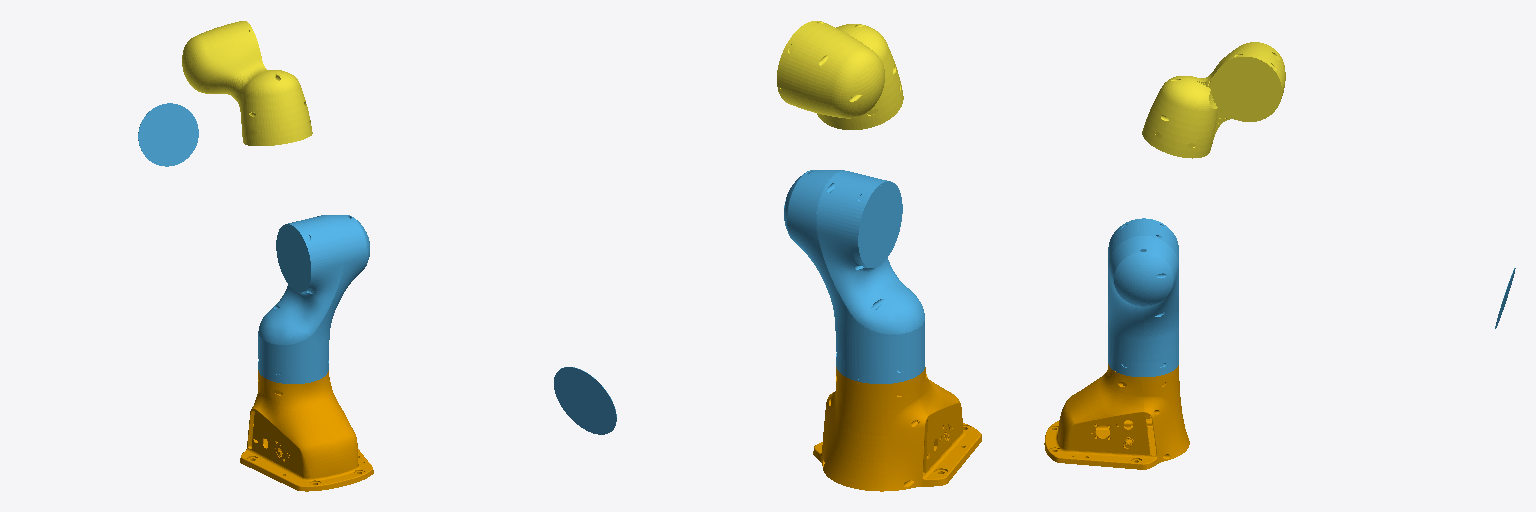
robot.urdf — panda_with_bat:
<?xml version="1.0" ?>
<robot name="panda_with_bat">

<material name="silver">
  <color rgba="0.700 0.700 0.700 1.000"/>
</material>

<link name="base_link">
  <inertial>
    <origin xyz="0.0 0.0 0.0" rpy="0 0 0"/>
    <mass value="0.0"/>
    <inertia ixx="0.0" iyy="0.0" izz="0.0" ixy="0.0" iyz="0.0" ixz="0.0"/>
  </inertial>
  <visual>
    <origin xyz="0 0 0" rpy="0 0 0"/>
    <geometry>
      <mesh filename="meshes/base_link.stl" scale="0.001 0.001 0.001"/>
    </geometry>
    <material name="silver"/>
    <material/>
  </visual>
  <collision>
    <origin xyz="0 0 0" rpy="0 0 0"/>
    <geometry>
      <mesh filename="meshes/base_link.stl" scale="0.001 0.001 0.001"/>
    </geometry>
  </collision>
</link>

<link name="franka_link11">
  <inertial>
    <origin xyz="0.015919970943145345 1.6891914177460943e-05 0.09629414483425225" rpy="0 0 0"/>
    <mass value="6.3428439995297925"/>
    <inertia ixx="0.049100885935681404" iyy="0.0523856265058229" izz="0.014510081328525493" ixy="-1.8118905784902939e-06" iyz="-1.2245628480900272e-05" ixz="-0.008761304137697046"/>
  </inertial>
  <visual>
    <origin xyz="0.205858 -0.115737 -0.489015" rpy="0 0 0"/>
    <geometry>
      <mesh filename="meshes/franka_link11.stl" scale="0.001 0.001 0.001"/>
    </geometry>
    <material name="silver"/>
    <material/>
  </visual>
  <collision>
    <origin xyz="0.205858 -0.115737 -0.489015" rpy="0 0 0"/>
    <geometry>
      <mesh filename="meshes/franka_link11.stl" scale="0.001 0.001 0.001"/>
    </geometry>
  </collision>
</link>

<link name="franka_link21">
  <inertial>
    <origin xyz="-0.03170674092862322 0.017918814413682704 0.06631353310618704" rpy="0 0 0"/>
    <mass value="18.093105171101435"/>
    <inertia ixx="0.1067043390002862" iyy="0.11527332715699679" izz="0.046421214515349085" ixy="-0.008156187945142945" iyz="-0.02011518479972141" ixz="-0.03011566655974729"/>
  </inertial>
  <visual>
    <origin xyz="0.205358 -0.115737 -0.681015" rpy="0 0 0"/>
    <geometry>
      <mesh filename="meshes/franka_link21.stl" scale="0.001 0.001 0.001"/>
    </geometry>
    <material name="silver"/>
    <material/>
  </visual>
  <collision>
    <origin xyz="0.205358 -0.115737 -0.681015" rpy="0 0 0"/>
    <geometry>
      <mesh filename="meshes/franka_link21.stl" scale="0.001 0.001 0.001"/>
    </geometry>
  </collision>
</link>

<link name="franka_link31">
  <inertial>
    <origin xyz="-0.006251688472462685 0.05415434031893715 0.055962521756316996" rpy="0 0 0"/>
    <mass value="5.091749656018345"/>
    <inertia ixx="0.027931566301489852" iyy="0.014324972489096588" izz="0.022896724524414103" ixy="0.0018985248869833327" iyz="-0.008999136283237785" ixz="0.0011251465327162258"/>
  </inertial>
  <visual>
    <origin xyz="0.204858 -0.166419 -0.868277" rpy="0 0 0"/>
    <geometry>
      <mesh filename="meshes/franka_link31.stl" scale="0.001 0.001 0.001"/>
    </geometry>
    <material name="silver"/>
    <material/>
  </visual>
  <collision>
    <origin xyz="0.204858 -0.166419 -0.868277" rpy="0 0 0"/>
    <geometry>
      <mesh filename="meshes/franka_link31.stl" scale="0.001 0.001 0.001"/>
    </geometry>
  </collision>
</link>

<link name="franka_link41">
  <inertial>
    <origin xyz="0.022416295539124442 0.053828750026371774 0.02831937415265595" rpy="0 0 0"/>
    <mass value="5.826518118660749"/>
    <inertia ixx="0.03293216879178651" iyy="0.013303916725328158" izz="0.029144926010459815" ixy="0.0018531124960448064" iyz="-0.008925637551683518" ixz="0.0008266307965244524"/>
  </inertial>
  <visual>
    <origin xyz="0.190744 -0.276493 -0.963839" rpy="0 0 0"/>
    <geometry>
      <mesh filename="meshes/franka_link41.stl" scale="0.001 0.001 0.001"/>
    </geometry>
    <material name="silver"/>
    <material/>
  </visual>
  <collision>
    <origin xyz="0.190744 -0.276493 -0.963839" rpy="0 0 0"/>
    <geometry>
      <mesh filename="meshes/franka_link41.stl" scale="0.001 0.001 0.001"/>
    </geometry>
  </collision>
</link>

<link name="franka_link51">
  <inertial>
    <origin xyz="-0.034290569507804514 0.16391278139547755 -0.04460213669811597" rpy="0 0 0"/>
    <mass value="2.33892655137443"/>
    <inertia ixx="0.02364118982761232" iyy="0.006151004442137342" izz="0.023577444571088457" ixy="0.002687874149010061" iyz="0.005125296561300452" ixz="-0.0007201380608680696"/>
  </inertial>
  <visual>
    <origin xyz="0.169284 -0.415935 -1.011568" rpy="0 0 0"/>
    <geometry>
      <mesh filename="meshes/franka_link51.stl" scale="0.001 0.001 0.001"/>
    </geometry>
    <material name="silver"/>
    <material/>
  </visual>
  <collision>
    <origin xyz="0.169284 -0.415935 -1.011568" rpy="0 0 0"/>
    <geometry>
      <mesh filename="meshes/franka_link51.stl" scale="0.001 0.001 0.001"/>
    </geometry>
  </collision>
</link>

<link name="franka_link61">
  <inertial>
    <origin xyz="0.03418688988700623 0.05926864819781541 -0.006268383799952537" rpy="0 0 0"/>
    <mass value="1.8155432010748516"/>
    <inertia ixx="0.007118089011445949" iyy="0.004265977942787158" izz="0.0051537386428838206" ixy="0.0004301101645506622" iyz="-0.00011646942799026228" ixz="-2.364473017452129e-05"/>
  </inertial>
  <visual>
    <origin xyz="0.138983 -0.664691 -0.944242" rpy="0 0 0"/>
    <geometry>
      <mesh filename="meshes/franka_link61.stl" scale="0.001 0.001 0.001"/>
    </geometry>
    <material name="silver"/>
    <material/>
  </visual>
  <collision>
    <origin xyz="0.138983 -0.664691 -0.944242" rpy="0 0 0"/>
    <geometry>
      <mesh filename="meshes/franka_link61.stl" scale="0.001 0.001 0.001"/>
    </geometry>
  </collision>
</link>

<link name="franka_link71">
  <inertial>
    <origin xyz="0.108837 -0.732388 -0.872878" rpy="0 0 0"/>
    <mass value="0.0"/>
    <inertia ixx="0.0" iyy="0.0" izz="0.0" ixy="0.0" iyz="0.0" ixz="0.0"/>
  </inertial>
  <visual>
    <origin xyz="0.108837 -0.732388 -0.872878" rpy="0 0 0"/>
    <geometry>
      <mesh filename="meshes/franka_link71.stl" scale="0.001 0.001 0.001"/>
    </geometry>
    <material name="silver"/>
    <material/>
  </visual>
  <collision>
    <origin xyz="0.108837 -0.732388 -0.872878" rpy="0 0 0"/>
    <geometry>
      <mesh filename="meshes/franka_link71.stl" scale="0.001 0.001 0.001"/>
    </geometry>
  </collision>
</link>

<link name="racquet1">
  <inertial>
    <origin xyz="1.8391212977947324e-06 -0.06077016046410544 -0.22453116041522347" rpy="0 0 0"/>
    <mass value="2.0593554197560686"/>
    <inertia ixx="0.05462064357594598" iyy="0.04736330697184776" izz="0.007660536139305729" ixy="-0.0007390303039475354" iyz="-0.011594971014470712" ixz="0.0002003713496647741"/>
  </inertial>
  <visual>
    <origin xyz="0.108837 -0.718333 -0.820946" rpy="0 0 0"/>
    <geometry>
      <mesh filename="meshes/racquet1.stl" scale="0.001 0.001 0.001"/>
    </geometry>
    <material name="silver"/>
    <material/>
  </visual>
  <collision>
    <origin xyz="0.108837 -0.718333 -0.820946" rpy="0 0 0"/>
    <geometry>
      <mesh filename="meshes/racquet1.stl" scale="0.001 0.001 0.001"/>
    </geometry>
  </collision>
</link>

<link name="end_effector1">
  <inertial>
    <origin xyz="0.0002457165873124695 -4.262776473851204e-05 1.1429791648920329e-05" rpy="0 0 0"/>
    <mass value="0.030826877913349836"/>
    <inertia ixx="3.792977295127495e-05" iyy="1.9830053182464703e-05" izz="1.930865310287473e-05" ixy="-3.24031739179758e-06" iyz="-1.5227106737666918e-07" ixz="8.769922430953286e-07"/>
  </inertial>
  <visual>
    <origin xyz="0.108345 -0.618421 -0.452131" rpy="0 0 0"/>
    <geometry>
      <mesh filename="meshes/end_effector1.stl" scale="0.001 0.001 0.001"/>
    </geometry>
    <material name="silver"/>
    <material/>
  </visual>
  <collision>
    <origin xyz="0.108345 -0.618421 -0.452131" rpy="0 0 0"/>
    <geometry>
      <mesh filename="meshes/end_effector1.stl" scale="0.001 0.001 0.001"/>
    </geometry>
  </collision>
</link>

<joint name="panda_joint0" type="continuous">
  <origin xyz="-0.205858 0.115737 0.489015" rpy="0 0 0"/>
  <parent link="base_link"/>
  <child link="franka_link11"/>
  <axis xyz="0.0 0.0 1.0"/>
</joint>
<transmission name="panda_joint0_tran">
  <type>transmission_interface/SimpleTransmission</type>
  <joint name="panda_joint0">
    <hardwareInterface>PositionJointInterface</hardwareInterface>
  </joint>
  <actuator name="panda_joint0_actr">
    <hardwareInterface>PositionJointInterface</hardwareInterface>
    <mechanicalReduction>1</mechanicalReduction>
  </actuator>
</transmission>

<joint name="panda_joint1" type="continuous">
  <origin xyz="0.0005 0.0 0.192" rpy="0 0 0"/>
  <parent link="franka_link11"/>
  <child link="franka_link21"/>
  <axis xyz="-1.0 0.0 0.0"/>
</joint>
<transmission name="panda_joint1_tran">
  <type>transmission_interface/SimpleTransmission</type>
  <joint name="panda_joint1">
    <hardwareInterface>PositionJointInterface</hardwareInterface>
  </joint>
  <actuator name="panda_joint1_actr">
    <hardwareInterface>PositionJointInterface</hardwareInterface>
    <mechanicalReduction>1</mechanicalReduction>
  </actuator>
</transmission>

<joint name="panda_joint2" type="continuous">
  <origin xyz="0.0005 0.050682 0.187262" rpy="0 0 0"/>
  <parent link="franka_link21"/>
  <child link="franka_link31"/>
  <axis xyz="0.0 0.261251 0.965271"/>
</joint>
<transmission name="panda_joint2_tran">
  <type>transmission_interface/SimpleTransmission</type>
  <joint name="panda_joint2">
    <hardwareInterface>PositionJointInterface</hardwareInterface>
  </joint>
  <actuator name="panda_joint2_actr">
    <hardwareInterface>PositionJointInterface</hardwareInterface>
    <mechanicalReduction>1</mechanicalReduction>
  </actuator>
</transmission>

<joint name="panda_joint3" type="continuous">
  <origin xyz="0.014114 0.110074 0.095562" rpy="0 0 0"/>
  <parent link="franka_link31"/>
  <child link="franka_link41"/>
  <axis xyz="0.984205 -0.170886 0.04625"/>
</joint>
<transmission name="panda_joint3_tran">
  <type>transmission_interface/SimpleTransmission</type>
  <joint name="panda_joint3">
    <hardwareInterface>PositionJointInterface</hardwareInterface>
  </joint>
  <actuator name="panda_joint3_actr">
    <hardwareInterface>PositionJointInterface</hardwareInterface>
    <mechanicalReduction>1</mechanicalReduction>
  </actuator>
</transmission>

<joint name="panda_joint4" type="continuous">
  <origin xyz="0.02146 0.139442 0.047729" rpy="0 0 0"/>
  <parent link="franka_link41"/>
  <child link="franka_link51"/>
  <axis xyz="0.177034 0.950024 -0.257124"/>
</joint>
<transmission name="panda_joint4_tran">
  <type>transmission_interface/SimpleTransmission</type>
  <joint name="panda_joint4">
    <hardwareInterface>PositionJointInterface</hardwareInterface>
  </joint>
  <actuator name="panda_joint4_actr">
    <hardwareInterface>PositionJointInterface</hardwareInterface>
    <mechanicalReduction>1</mechanicalReduction>
  </actuator>
</transmission>

<joint name="panda_joint5" type="continuous">
  <origin xyz="0.030301 0.248756 -0.067326" rpy="0 0 0"/>
  <parent link="franka_link51"/>
  <child link="franka_link61"/>
  <axis xyz="0.984205 -0.170886 0.04625"/>
</joint>
<transmission name="panda_joint5_tran">
  <type>transmission_interface/SimpleTransmission</type>
  <joint name="panda_joint5">
    <hardwareInterface>PositionJointInterface</hardwareInterface>
  </joint>
  <actuator name="panda_joint5_actr">
    <hardwareInterface>PositionJointInterface</hardwareInterface>
    <mechanicalReduction>1</mechanicalReduction>
  </actuator>
</transmission>

<joint name="panda_joint6" type="continuous">
  <origin xyz="0.030146 0.067697 -0.071364" rpy="0 0 0"/>
  <parent link="franka_link61"/>
  <child link="franka_link71"/>
  <axis xyz="-0.0 -0.261251 -0.965271"/>
</joint>
<transmission name="panda_joint6_tran">
  <type>transmission_interface/SimpleTransmission</type>
  <joint name="panda_joint6">
    <hardwareInterface>PositionJointInterface</hardwareInterface>
  </joint>
  <actuator name="panda_joint6_actr">
    <hardwareInterface>PositionJointInterface</hardwareInterface>
    <mechanicalReduction>1</mechanicalReduction>
  </actuator>
</transmission>

<joint name="panda_racquet_mount" type="fixed">
  <origin xyz="0.0 -0.014055 -0.051932" rpy="0 0 0"/>
  <parent link="franka_link71"/>
  <child link="racquet1"/>
</joint>

<joint name="Rigid_23" type="fixed">
  <origin xyz="0.000492 -0.099912 -0.368815" rpy="0 0 0"/>
  <parent link="racquet1"/>
  <child link="end_effector1"/>
</joint>

</robot>

--- Render facts (derived) ---
Views: 3 orthographic renders of the robot side by side, from view 1: azimuth 30°, elevation 25°; view 2: azimuth 150°, elevation 25°; view 3: azimuth 270°, elevation 25°.
Robot: panda_with_bat — 10 links, 9 joints (7 continuous, 2 fixed); root link base_link; default pose: all joints at 0.
Visible links, largest first — view 1: franka_link11, base_link, franka_link31, end_effector1; view 2: franka_link11, base_link, franka_link31, end_effector1; view 3: base_link, franka_link11, franka_link31.
Link boxes in pixels (x1,y1,x2,y2): franka_link11: (258,215,369,383); base_link: (240,370,373,491); franka_link31: (182,21,312,145); end_effector1: (138,103,198,166); franka_link11: (784,170,924,383); base_link: (813,367,981,491); franka_link31: (777,21,903,129); end_effector1: (554,367,616,434); base_link: (1044,364,1189,469); franka_link11: (1108,218,1178,376); franka_link31: (1142,42,1285,158).
Bounding box of the posed robot: 0.242 × 0.7314 × 0.6698 m (x, y, z).
Meshes: 10 distinct files referenced, 4 mesh visuals loaded (4 binary STL); not drawn: 6 (reference not matched to a file when rendering).